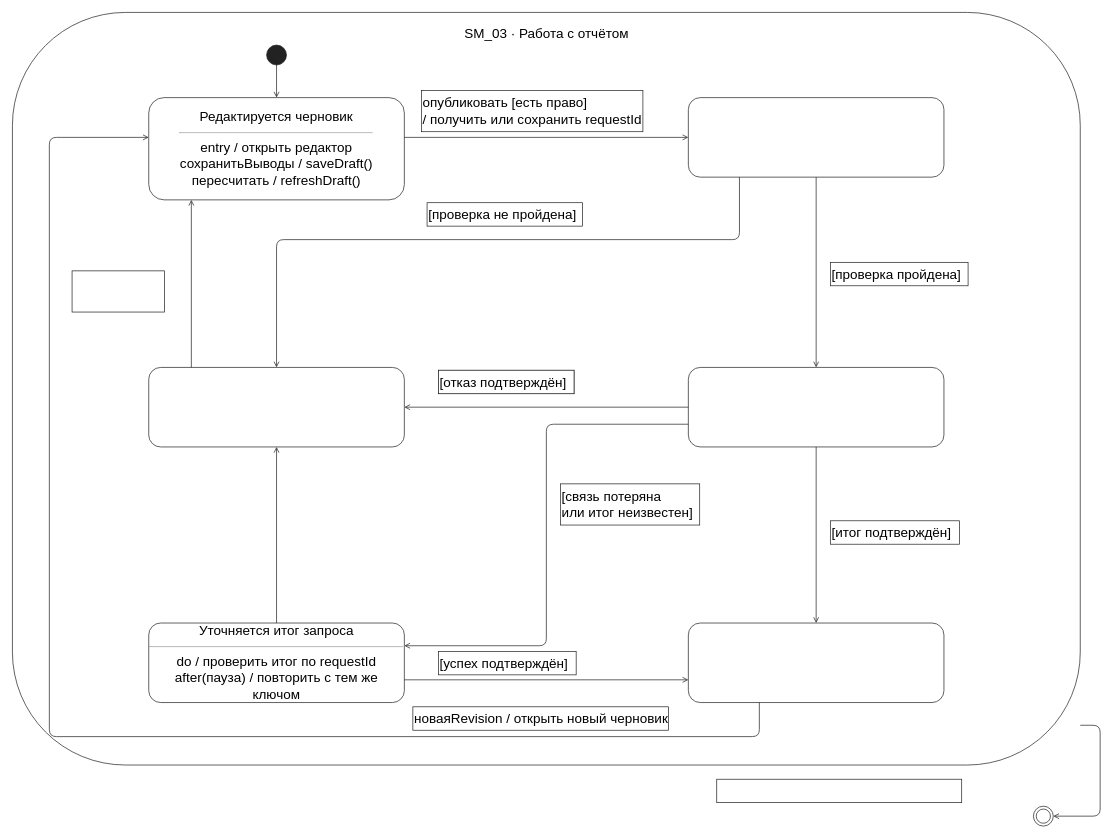
Some shapes in this 1118 by 839 pixel diagram are drawn without their labels. Here are the shapes that lost their labels. From the top down, the centre of each, then its label:
point (816, 137): Проверяется отчёт do / проверить права, ключ и версии
point (117, 291): исправить / новый ключ
point (276, 407): Показаны замечания entry / показать подтверждённый отказ
point (816, 407): Публикуется версия do / атомарно сверить и записать
point (816, 662): Отчёт опубликован {снимок версии неизменяем}
point (839, 791): закрыть [нет незавершённого запроса]
